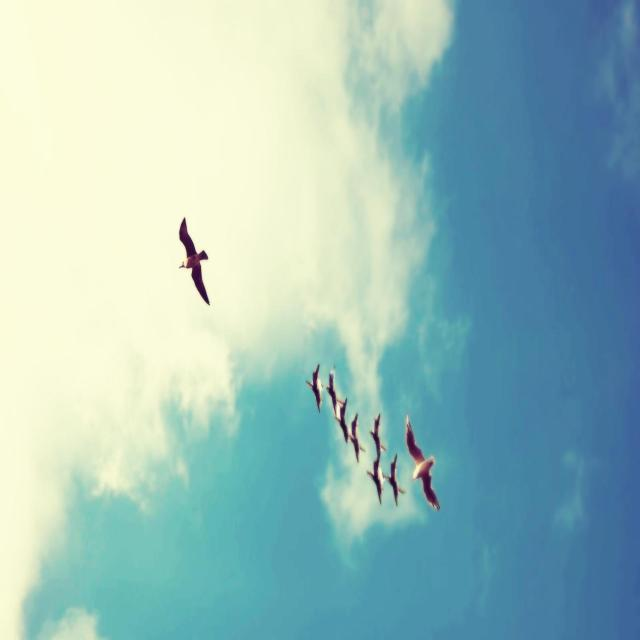airplane: (385, 452, 405, 507), (349, 406, 366, 466), (306, 363, 323, 414), (367, 456, 384, 507), (370, 411, 387, 458), (327, 362, 338, 417), (339, 393, 348, 443)
